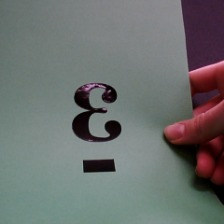green3: (63, 74, 132, 175)
